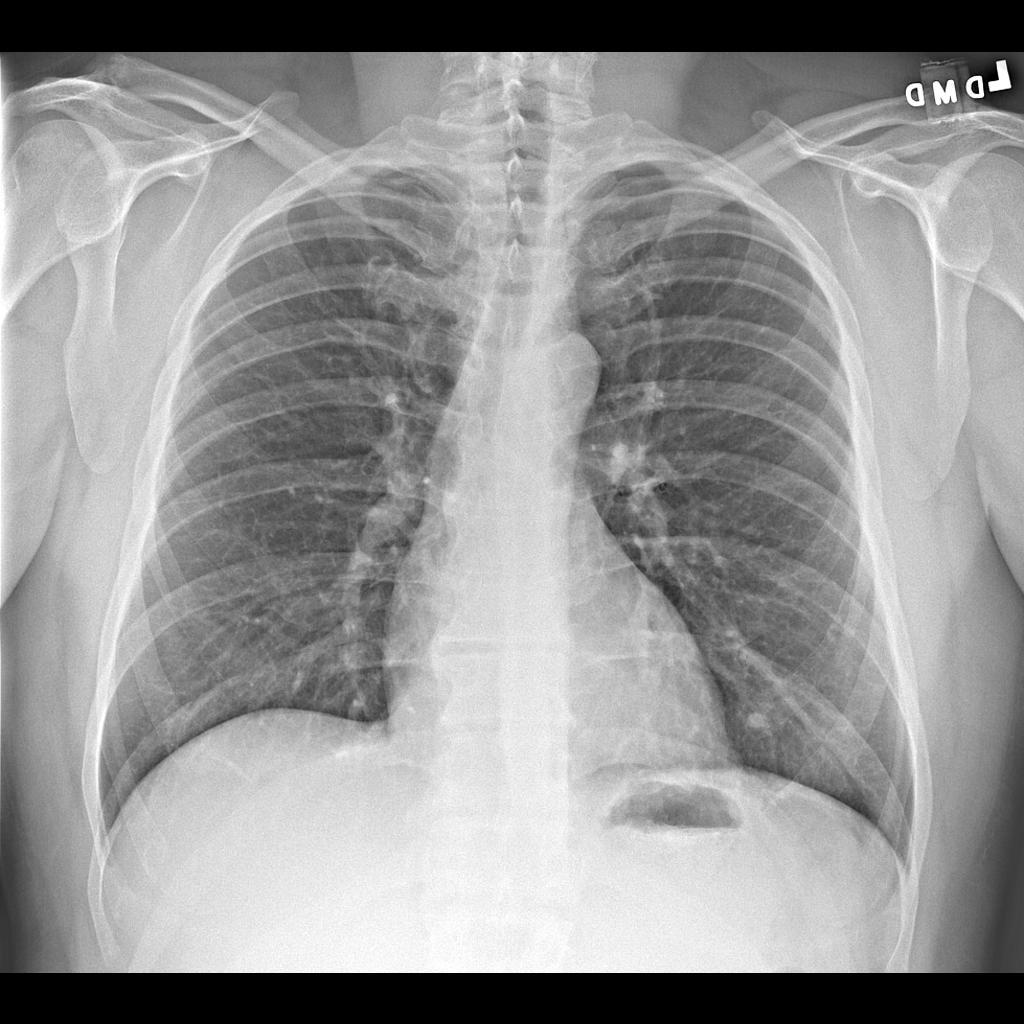Nodule: (744, 703, 781, 744)
